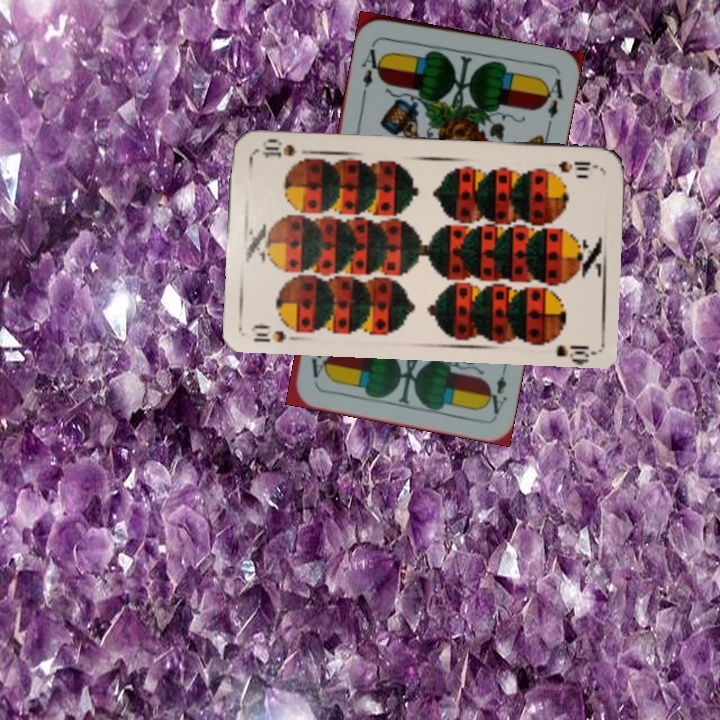EA: (357, 38, 387, 97), (481, 359, 510, 417)
S10: (247, 320, 303, 345), (554, 157, 600, 175)
